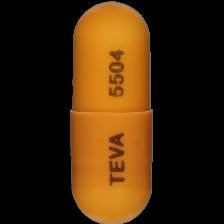0093-5504: (0, 0, 224, 224)
